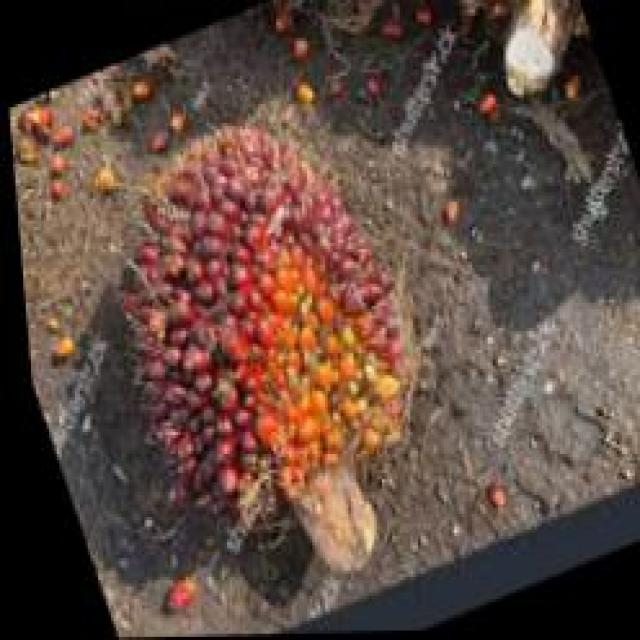Ripefruit: (65, 83, 467, 607)
